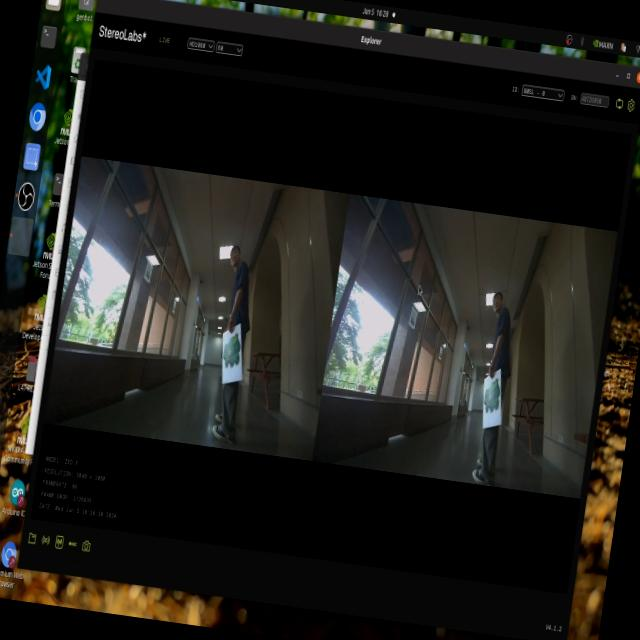green: (222, 324, 254, 388), (472, 372, 506, 426)
